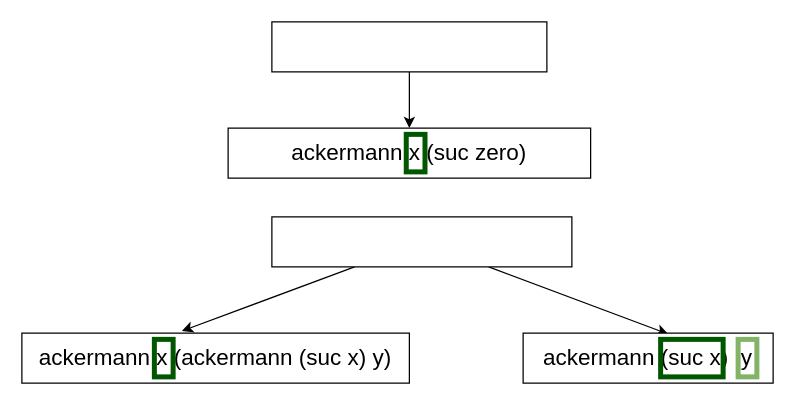
Image size: 795x405. Some labels were removed from this diagram. Here are the shapes that lost their labels. From the top down, the box of each, then its label:
(271, 21, 547, 72): ackermann (suc x) zero
(271, 216, 572, 267): ackermann (suc x) (suc y)
